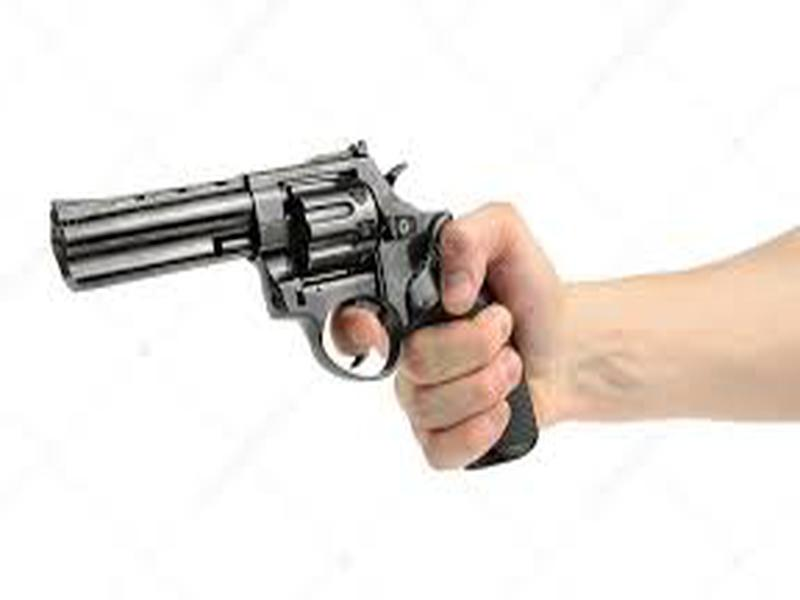Revolver: (32, 138, 481, 471)
